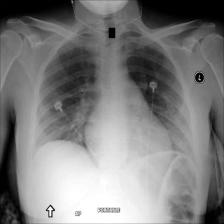normal: (28, 27, 200, 191)
